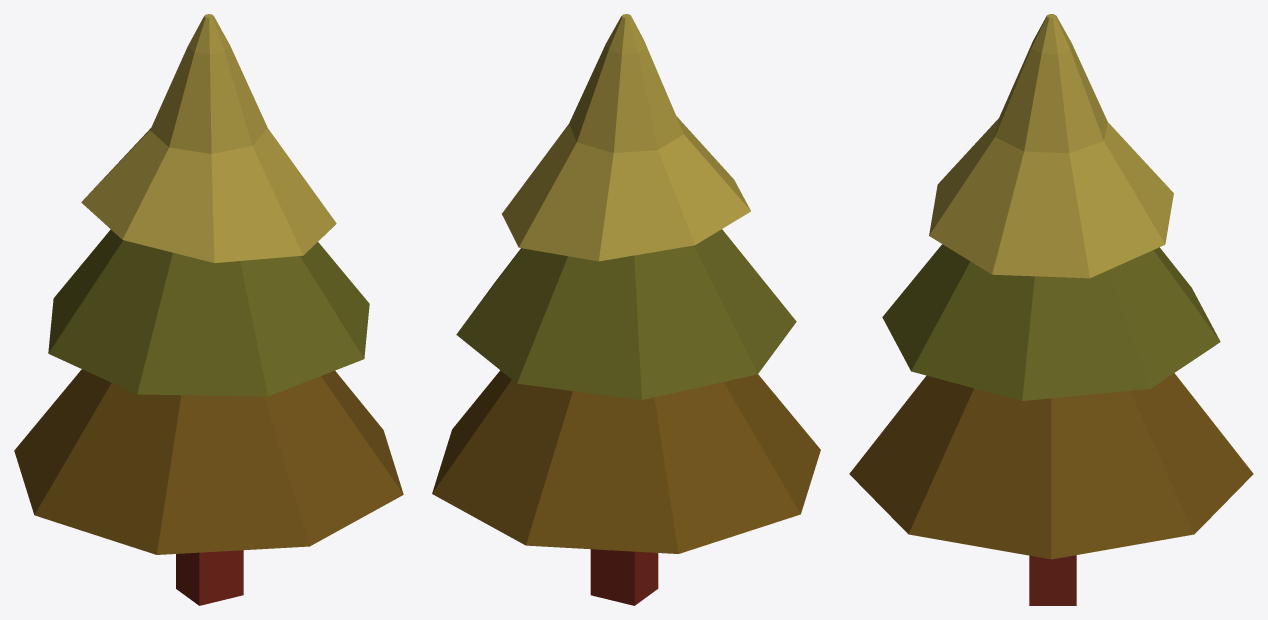
Rendered from tree2.fbx.
3 renders of one model, left to right at view 1: azimuth 30°, elevation 25°; view 2: azimuth 150°, elevation 25°; view 3: azimuth 270°, elevation 25°, orthographic.
Visible parts, largest first — view 1: Cube.015; view 2: Cube.015; view 3: Cube.015.
Part boxes in pixels (x1,y1,x2,y2): Cube.015: (14,14,403,605); Cube.015: (432,14,820,605); Cube.015: (849,14,1253,605).
Size of the model in its own units: 124 by 195 by 124.
